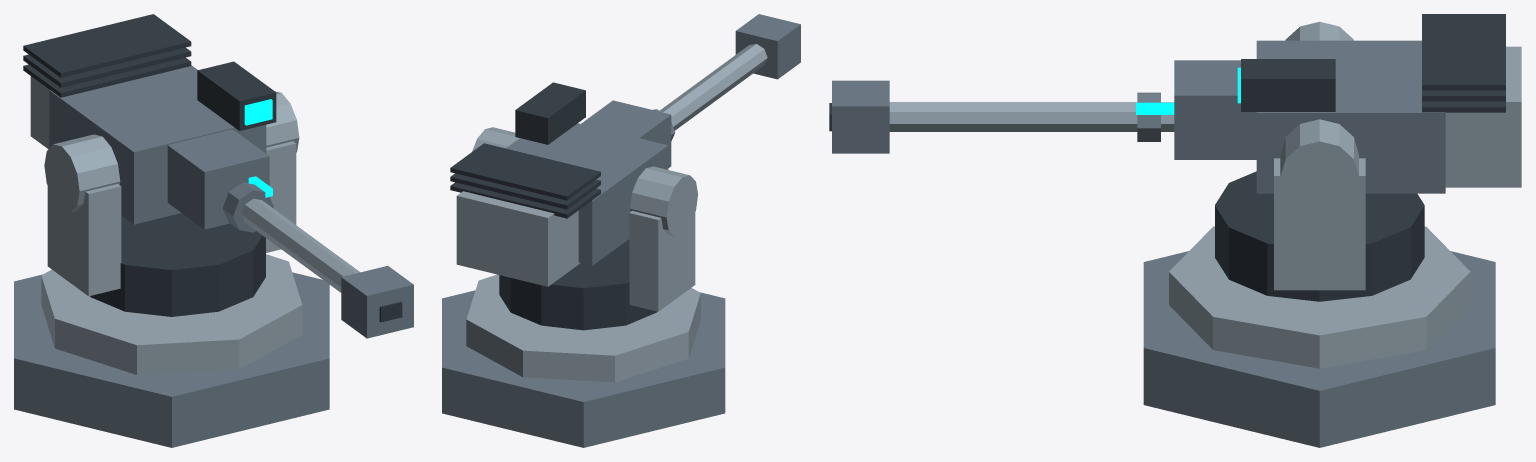
The model's file is needle_t1.glb.
The picture shows the model from 3 angles, left to right: view 1: azimuth 30°, elevation 25°; view 2: azimuth 150°, elevation 25°; view 3: azimuth 270°, elevation 25°; orthographic projection. The views are drawn at different scales.
Parts seen in each view (by area): view 1: Foundation, Base upper armor, Receiver, Yaw bearing, Rear radiator (×3), Elevation fork (×2), Tapered receiver, Trunnion (×2), Slotted muzzle body, Single accelerator, Offset optic, Rear equipment (+3 smaller); view 2: Foundation, Base upper armor, Rear equipment, Receiver, Yaw bearing, Rear radiator (×3), Elevation fork, Trunnion (×2), Offset optic, Single accelerator, Slotted muzzle body, Tapered receiver; view 3: Foundation, Base upper armor, Receiver, Yaw bearing, Elevation fork, Rear radiator (×3), Single accelerator, Tapered receiver, Trunnion (×2), Rear equipment, Offset optic, Slotted muzzle body (+1 smaller).
Part boxes in pixels (bbox=[...]): Foundation: bbox=[14, 272, 329, 447]; Base upper armor: bbox=[41, 254, 302, 374]; Receiver: bbox=[49, 65, 266, 224]; Yaw bearing: bbox=[90, 213, 265, 316]; Rear radiator (×3): bbox=[23, 14, 191, 97]; Elevation fork (×2): bbox=[47, 141, 296, 296]; Tapered receiver: bbox=[167, 129, 269, 229]; Trunnion (×2): bbox=[44, 91, 299, 212]; Slotted muzzle body: bbox=[341, 265, 413, 338]; Single accelerator: bbox=[241, 198, 359, 292]; Offset optic: bbox=[197, 61, 276, 130]; Rear equipment: bbox=[30, 76, 49, 148]; Foundation: bbox=[442, 290, 725, 447]; Base upper armor: bbox=[466, 274, 700, 382]; Rear equipment: bbox=[456, 191, 580, 286]; Receiver: bbox=[506, 123, 668, 265]; Yaw bearing: bbox=[499, 239, 656, 330]; Rear radiator (×3): bbox=[450, 143, 600, 218]; Elevation fork: bbox=[629, 211, 695, 311]; Trunnion (×2): bbox=[472, 127, 697, 236]; Offset optic: bbox=[515, 82, 585, 144]; Single accelerator: bbox=[659, 44, 767, 130]; Slotted muzzle body: bbox=[735, 14, 800, 79]; Tapered receiver: bbox=[581, 100, 671, 168]; Foundation: bbox=[1143, 251, 1495, 447]; Base upper armor: bbox=[1169, 226, 1470, 368]; Receiver: bbox=[1256, 40, 1445, 193]; Yaw bearing: bbox=[1215, 171, 1424, 301]; Elevation fork: bbox=[1274, 158, 1365, 290]; Rear radiator (×3): bbox=[1422, 14, 1505, 112]; Single accelerator: bbox=[889, 102, 1174, 131]; Tapered receiver: bbox=[1174, 60, 1256, 159]; Trunnion (×2): bbox=[1280, 21, 1358, 212]; Rear equipment: bbox=[1445, 46, 1521, 187]; Offset optic: bbox=[1241, 59, 1335, 111]; Slotted muzzle body: bbox=[832, 80, 889, 153].
Size of the model in its own units: 1.55 by 1.35 by 2.64.
